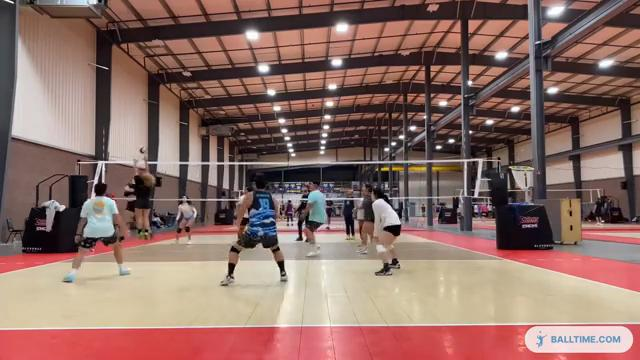muro: (125, 154, 156, 241)
